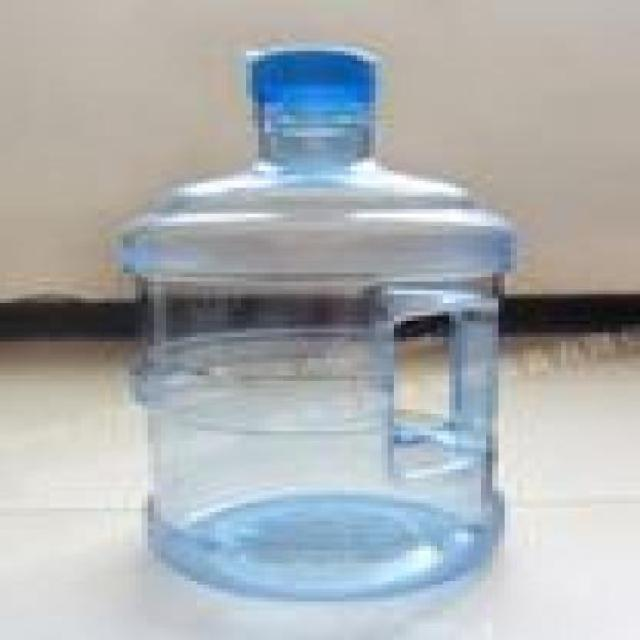coolerbottle: (106, 31, 522, 609)
